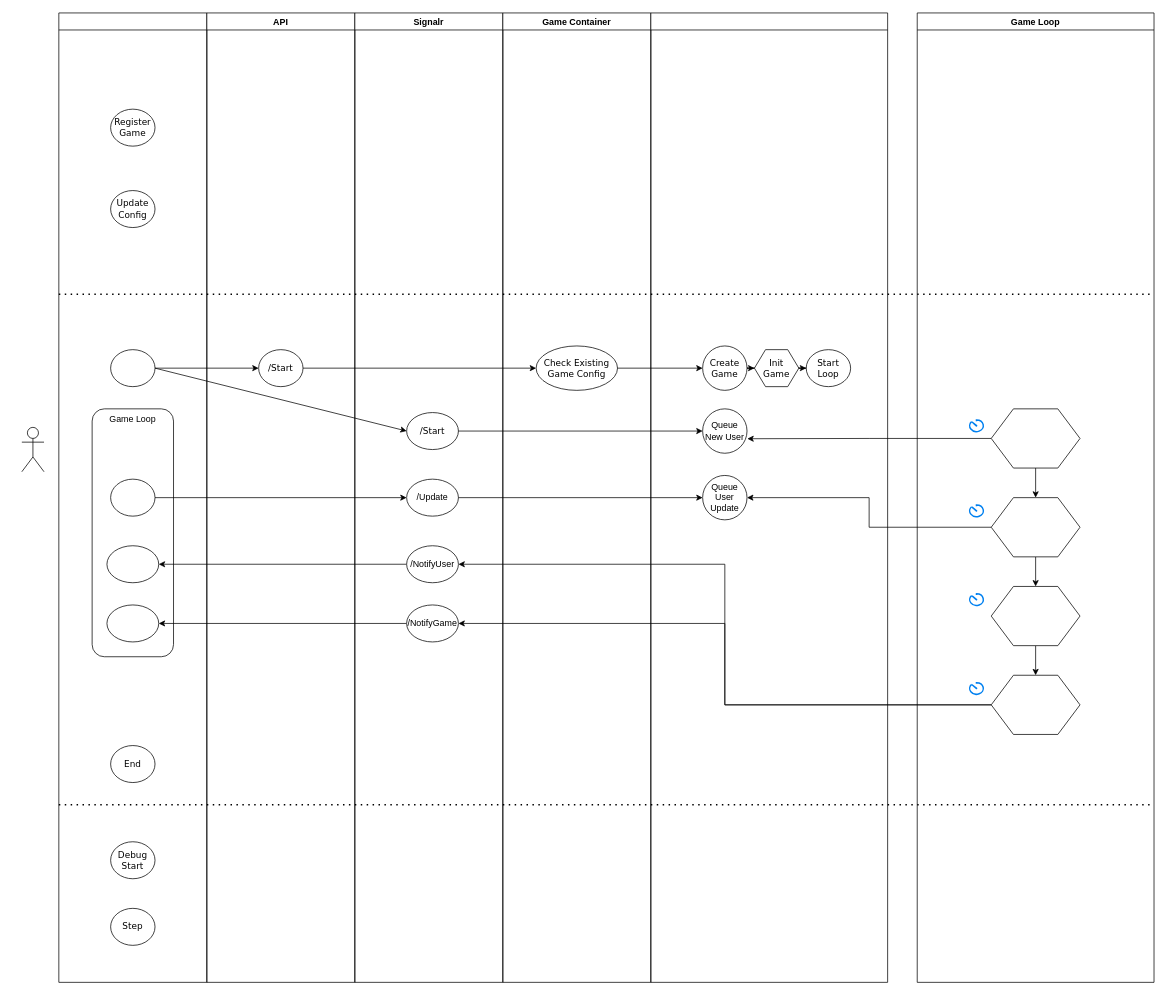
This 1168x995 diagram has some shape labels left out. The box of each missing label's shape, as (x1, y1, x2, y2) in pixels:
Client: (58, 12, 207, 982)
Developer: (21, 427, 44, 472)
Execute Step Logic: (990, 586, 1080, 646)
Game Instance: (650, 12, 888, 982)
Notify Game State: (990, 675, 1080, 734)
Read / Expire Users: (990, 408, 1080, 468)
Read User Input: (990, 497, 1080, 557)
Receive Game State: (106, 604, 159, 642)
Receive User State: (106, 545, 159, 583)
Start: (110, 349, 155, 387)
Update: (110, 478, 155, 516)
